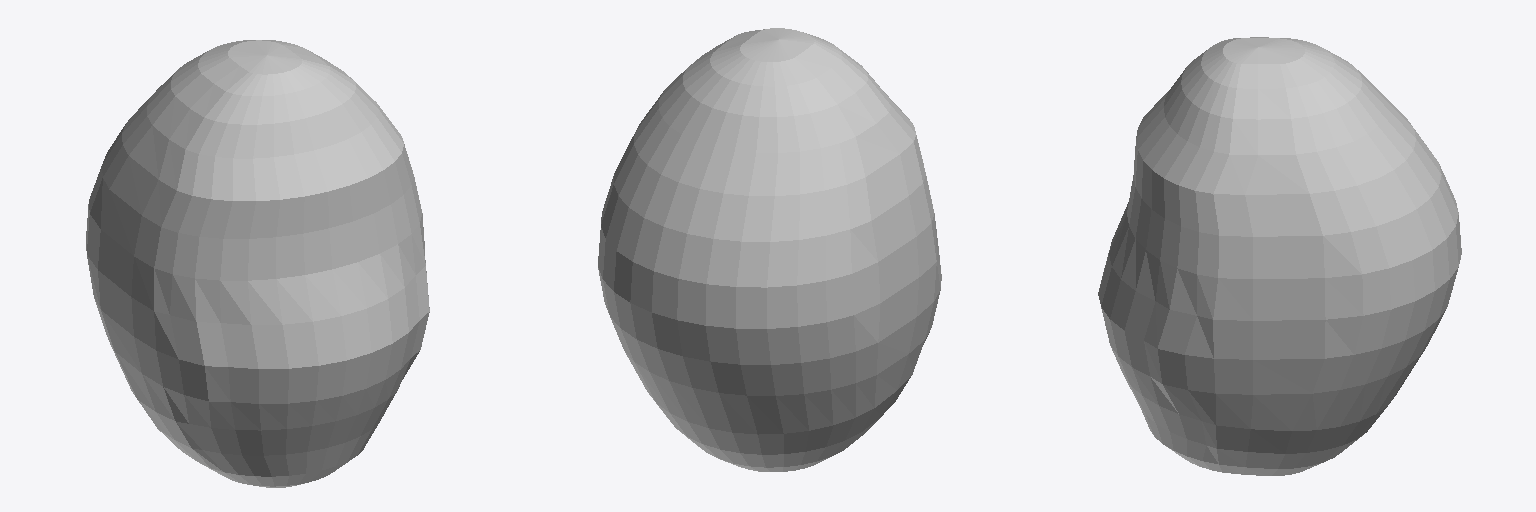
The model's file is mars_moon_one.obj.
3 views of the same model, side by side, from view 1: azimuth 30°, elevation 25°; view 2: azimuth 150°, elevation 25°; view 3: azimuth 270°, elevation 25° (orthographic).
Visible parts, largest first — view 1: Deimos_Mesh.002; view 2: Deimos_Mesh.002; view 3: Deimos_Mesh.002.
Boxes of the visible parts, <box> form: Deimos_Mesh.002: <box>86,40,429,487</box>; Deimos_Mesh.002: <box>598,28,941,471</box>; Deimos_Mesh.002: <box>1098,37,1461,475</box>.
Size of the model in its own units: 0.3073 by 0.4439 by 0.3508.